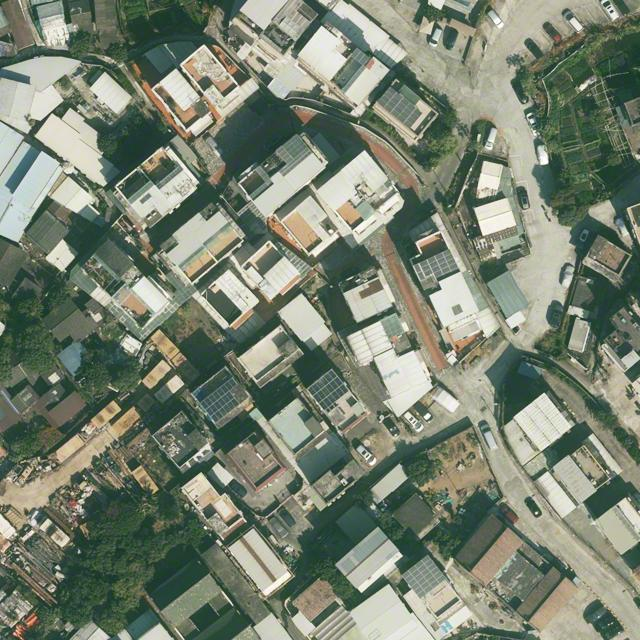panel: (402, 555, 447, 600), (376, 86, 423, 129), (306, 368, 350, 412), (412, 249, 456, 281), (200, 377, 237, 411), (205, 390, 241, 424), (433, 263, 457, 279)
